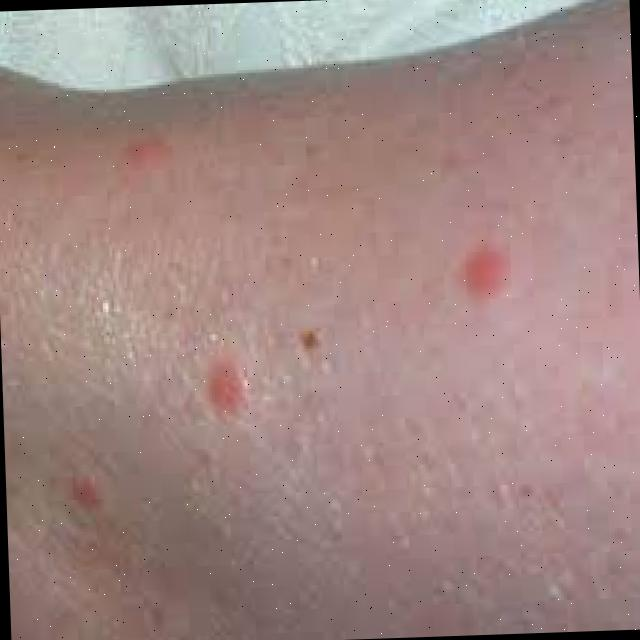tahta-kurusu: (419, 228, 530, 344), (61, 478, 163, 558), (170, 368, 259, 416)
